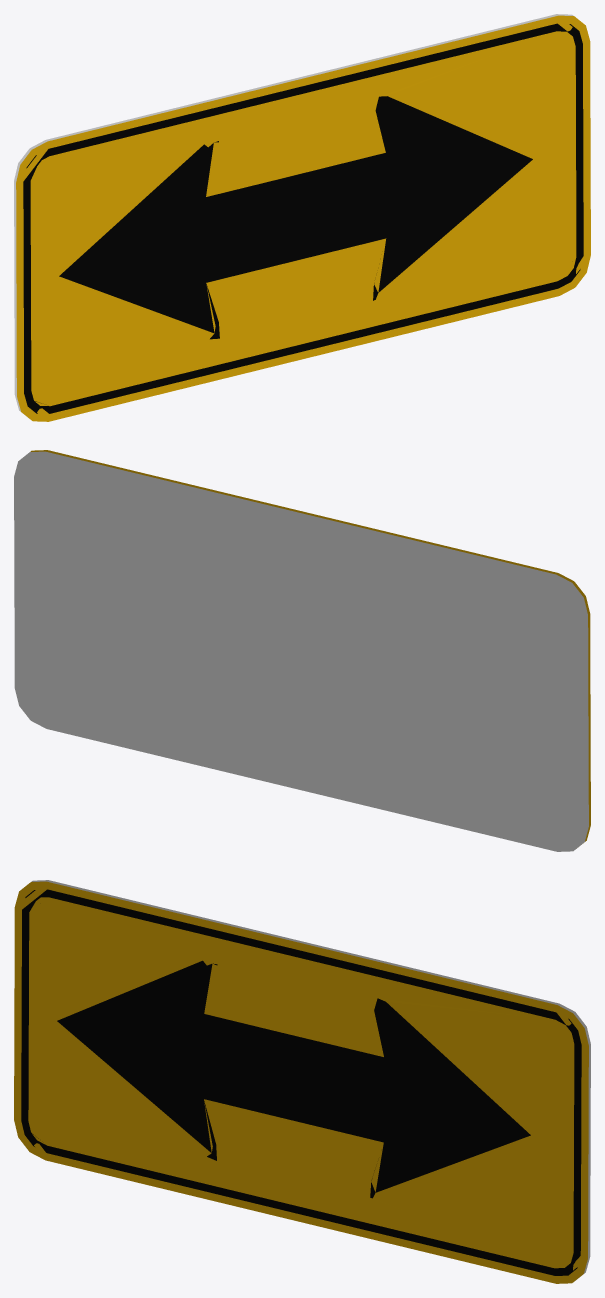
Rendered from sign_twoway.dae.
The picture shows the model from 3 angles, top to bottom: view 1: azimuth 30°, elevation 25°; view 2: azimuth 150°, elevation 25°; view 3: azimuth 330°, elevation 25°; orthographic projection.
Parts seen in each view (by area): view 1: sign_twoway_a015, sign_twoway_a050; view 2: sign_twoway_a015, sign_twoway_a050; view 3: sign_twoway_a015, sign_twoway_a050.
Part boxes in pixels (left/top/right/bottom): sign_twoway_a015: left=14, top=14, right=590, bottom=421; sign_twoway_a050: left=14, top=14, right=590, bottom=421; sign_twoway_a015: left=14, top=450, right=590, bottom=851; sign_twoway_a050: left=14, top=450, right=590, bottom=851; sign_twoway_a015: left=14, top=880, right=590, bottom=1283; sign_twoway_a050: left=14, top=880, right=590, bottom=1283.
Size of the model in its own units: 1.86 by 0.026 by 0.8644.
